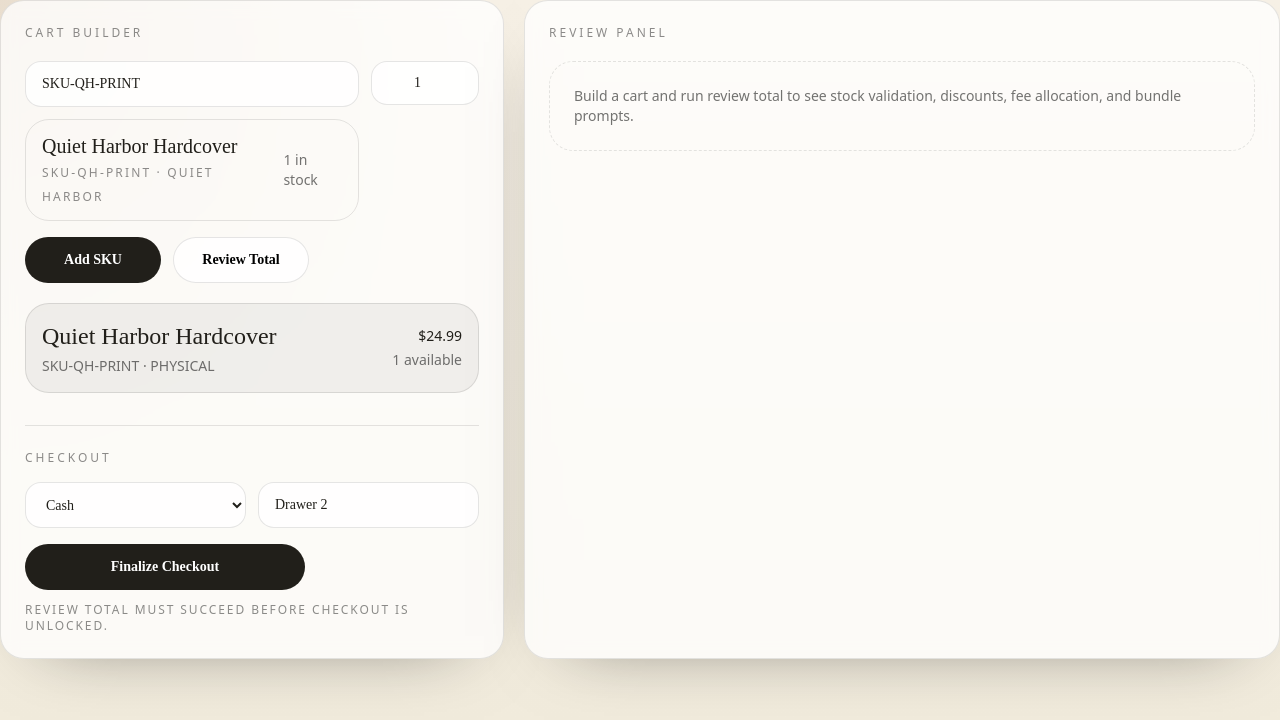
it: PosPage › renders blocking stock issues and keeps checkout disabled until inventory is resolved
Replace the text in the number field with "3" at coordinates (425, 83), box [371,61,479,105]
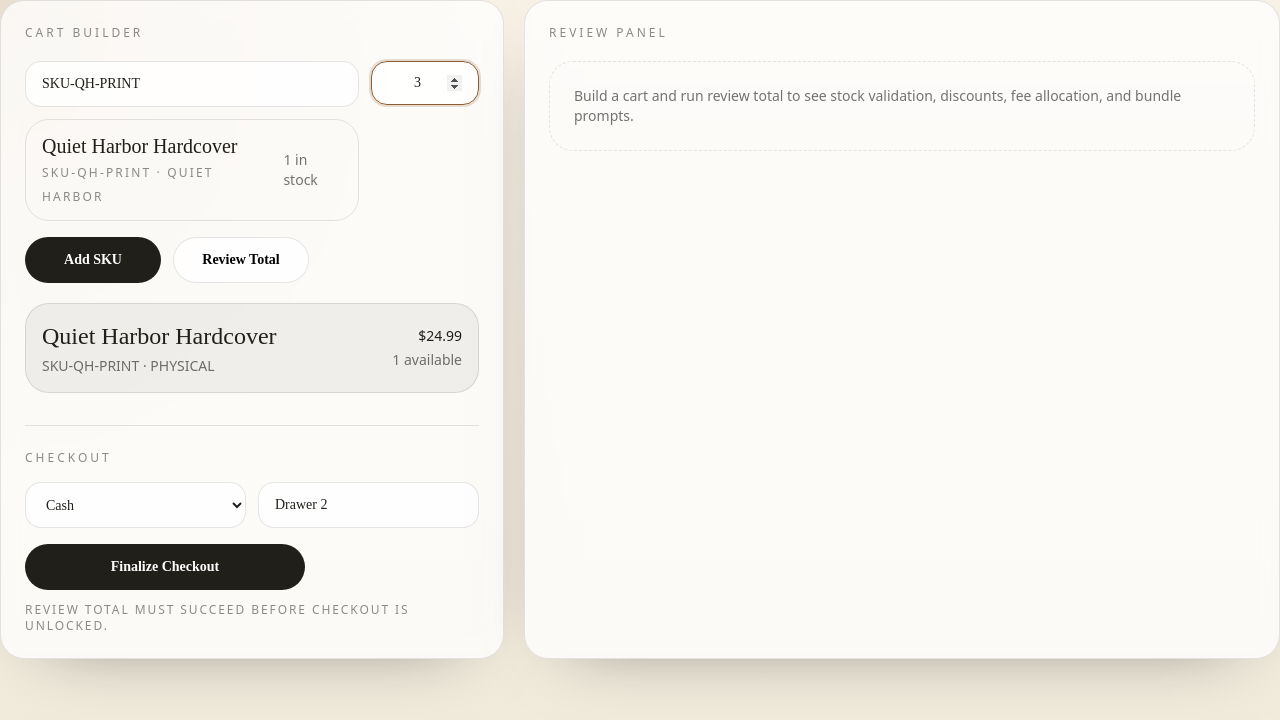
Click the button "Add SKU".
click(93, 260)  # box [25,237,161,283]
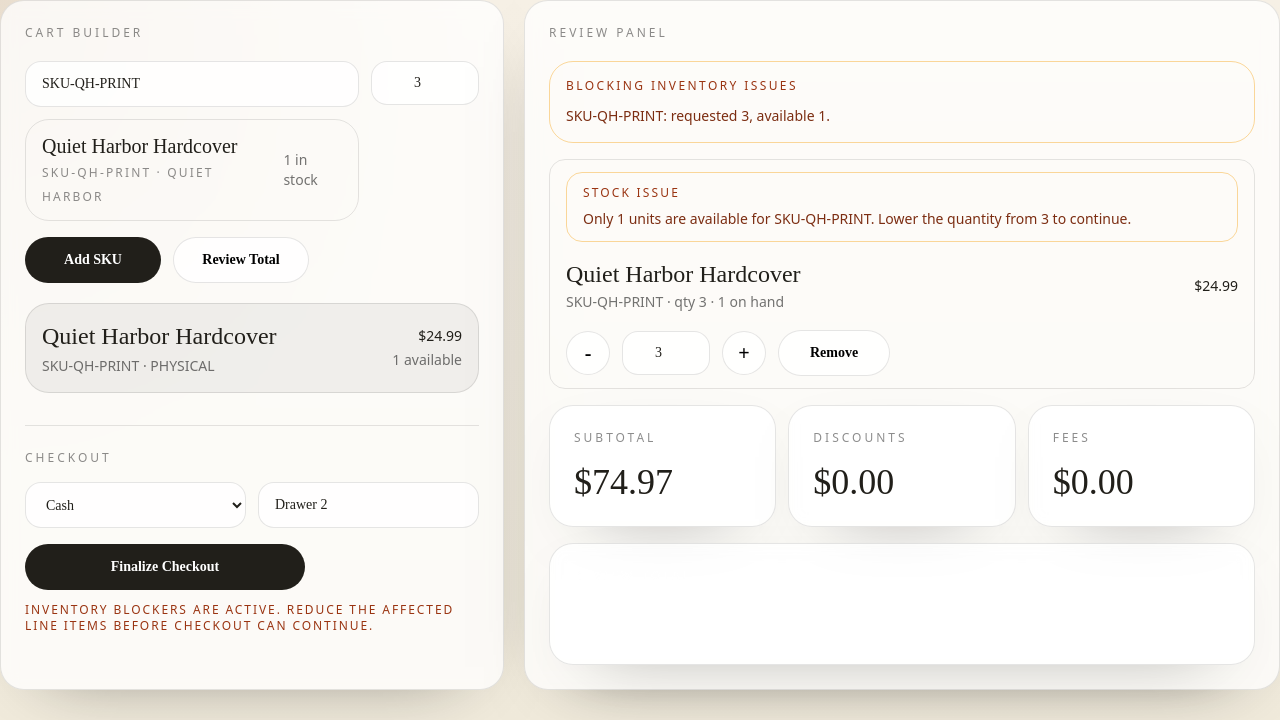
Expected: the button "Finalize Checkout" is disabled, [25,544,305,590]
Result: the text "Blocking Inventory Issues" is shown at [566,77,798,94]
Result: the text "SKU-QH-PRINT: requested 3, available 1." is shown at [566,106,830,125]
